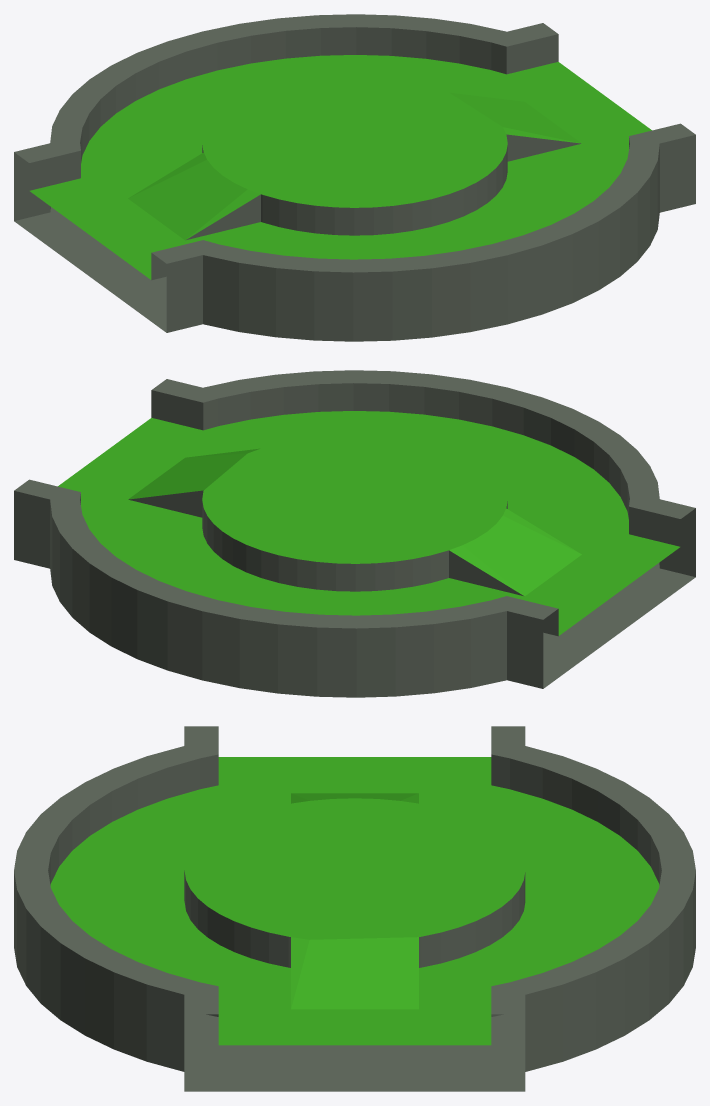
File: StraightCircleRamped.fbx
The picture shows the model from 3 angles, top to bottom: view 1: azimuth 30°, elevation 25°; view 2: azimuth 150°, elevation 25°; view 3: azimuth 270°, elevation 25°; orthographic projection. The views are drawn at different scales.
Parts seen in each view (by area): view 1: Plane.027; view 2: Plane.027; view 3: Plane.027.
Part boxes in pixels (x1,y1,x2,y2): Plane.027: (14, 14, 695, 341); Plane.027: (14, 370, 695, 697); Plane.027: (14, 726, 695, 1091).
Size of the model in its own units: 400 by 50 by 400.
